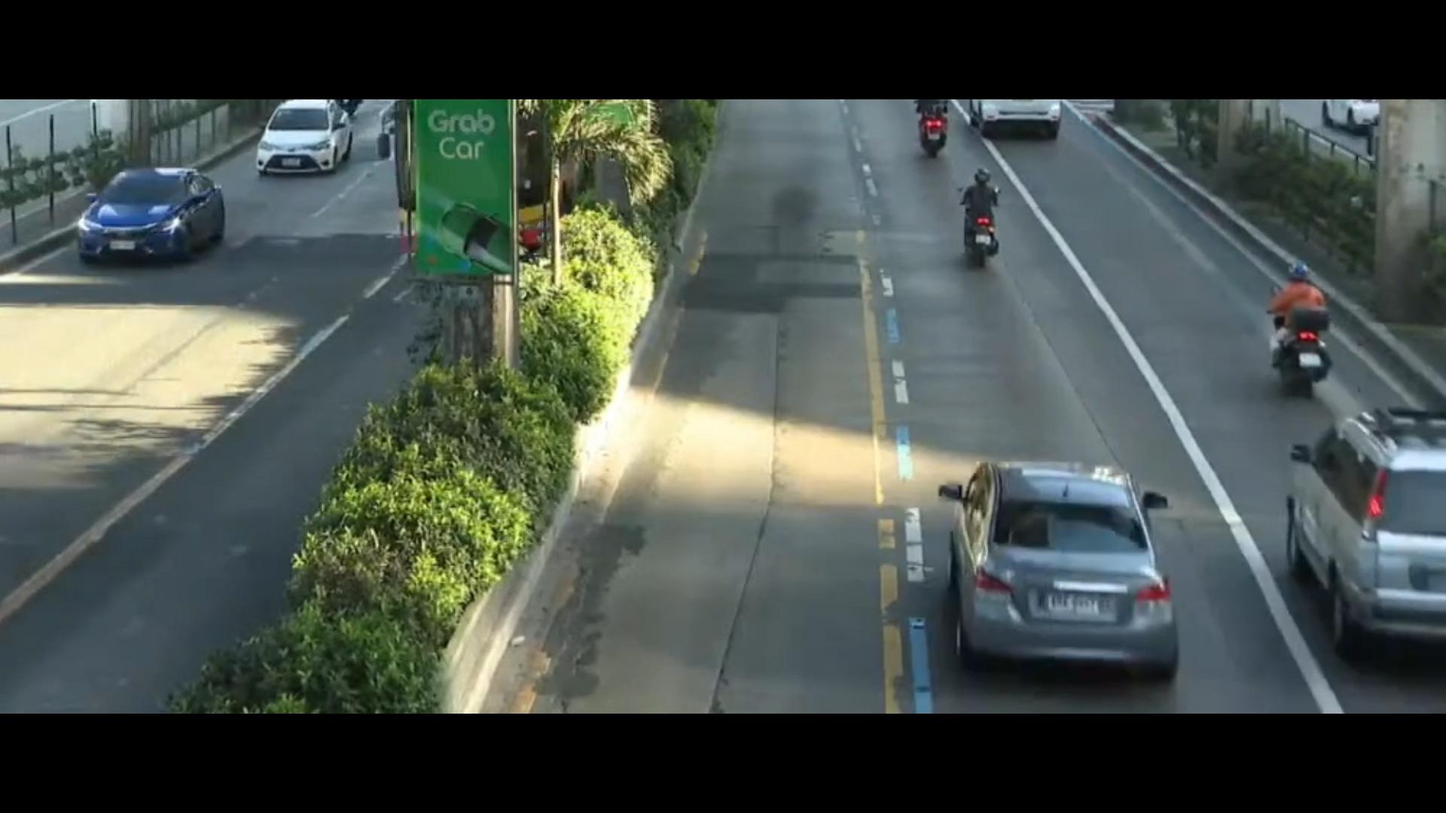Motorcycle: (1247, 247, 1359, 411), (929, 157, 1032, 274), (900, 92, 965, 164)
SUV: (1249, 379, 1446, 655)
Sedan: (912, 435, 1221, 681), (70, 153, 232, 282), (248, 91, 373, 184)
